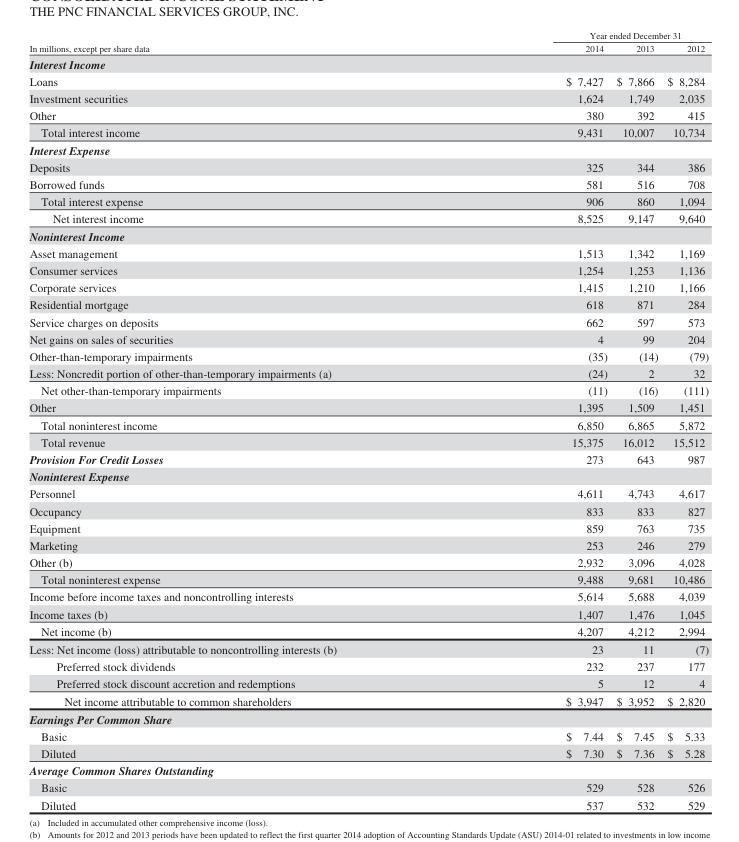table: (28, 29, 708, 811)
table column: (28, 29, 450, 811), (450, 29, 611, 811), (611, 29, 662, 811), (662, 29, 708, 811)
table column header: (28, 29, 708, 54)
table projected row header: (28, 54, 708, 72), (28, 140, 708, 158), (28, 226, 708, 244), (28, 709, 708, 727), (28, 467, 708, 484), (28, 761, 708, 778)
table row: (28, 54, 708, 72), (28, 140, 708, 158), (28, 226, 708, 244), (28, 312, 708, 330), (28, 398, 708, 416), (28, 484, 708, 502), (28, 587, 708, 605), (28, 639, 708, 657), (28, 674, 708, 692), (28, 709, 708, 727), (28, 778, 708, 796), (28, 72, 708, 89), (28, 89, 708, 106), (28, 106, 708, 123), (28, 123, 708, 140), (28, 158, 708, 175), (28, 175, 708, 192), (28, 192, 708, 209), (28, 209, 708, 226), (28, 244, 708, 261), (28, 261, 708, 278), (28, 278, 708, 295), (28, 295, 708, 312), (28, 330, 708, 347), (28, 347, 708, 364), (28, 364, 708, 381), (28, 381, 708, 398), (28, 416, 708, 433), (28, 433, 708, 450), (28, 450, 708, 467), (28, 467, 708, 484), (28, 502, 708, 519), (28, 519, 708, 536), (28, 536, 708, 553), (28, 553, 708, 570), (28, 570, 708, 587), (28, 605, 708, 622), (28, 622, 708, 639), (28, 657, 708, 674), (28, 692, 708, 709), (28, 727, 708, 744), (28, 744, 708, 761), (28, 761, 708, 778), (28, 796, 708, 811), (28, 41, 708, 54), (28, 29, 708, 41)
table spanning cell: (28, 29, 450, 54), (450, 29, 708, 41)
